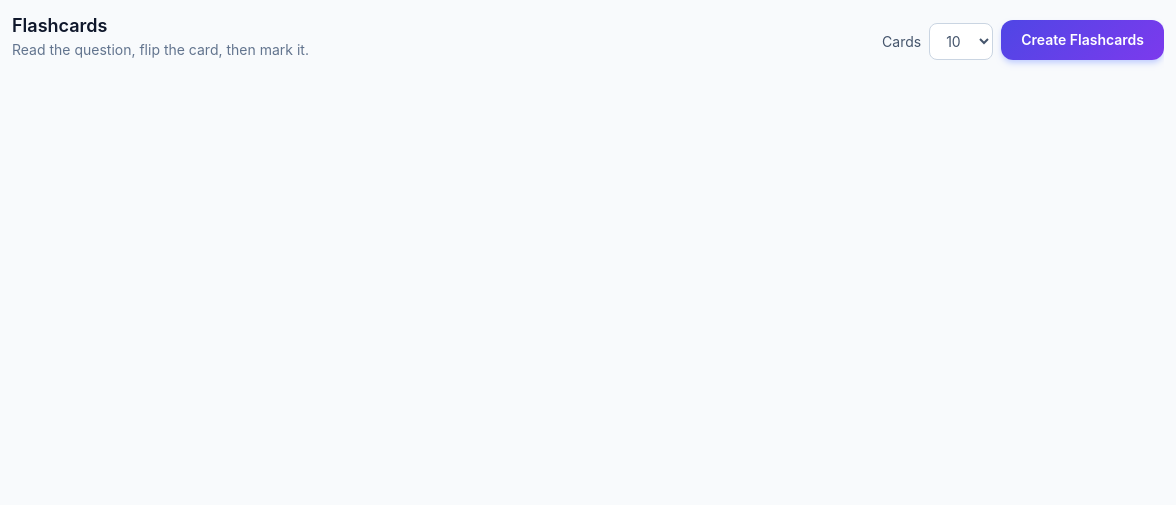
it: FlashcardPanel › shows an error when the mark cannot be saved
What coordinates should you click on to do the following:
click the button "Create Flashcards"
I would click on:
 (1083, 40)
Its box is left=1001, top=20, right=1164, bottom=60.
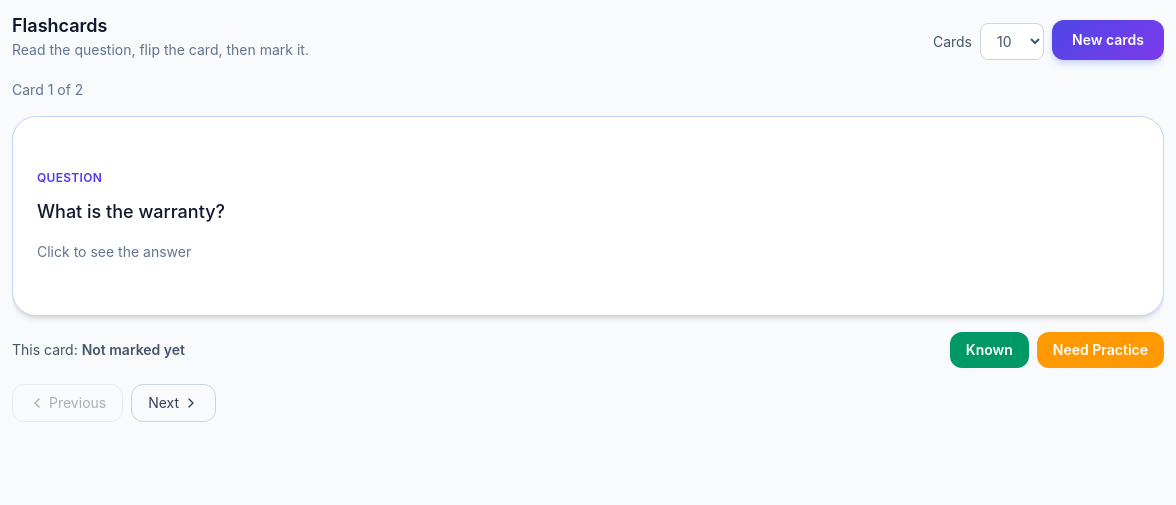
expect the text "What is the warranty?" is shown: met, box left=37, top=198, right=225, bottom=226
What coordinates should you click on to do the following:
click the button "Known"
I would click on:
 (989, 350)
Its box is left=950, top=332, right=1029, bottom=368.
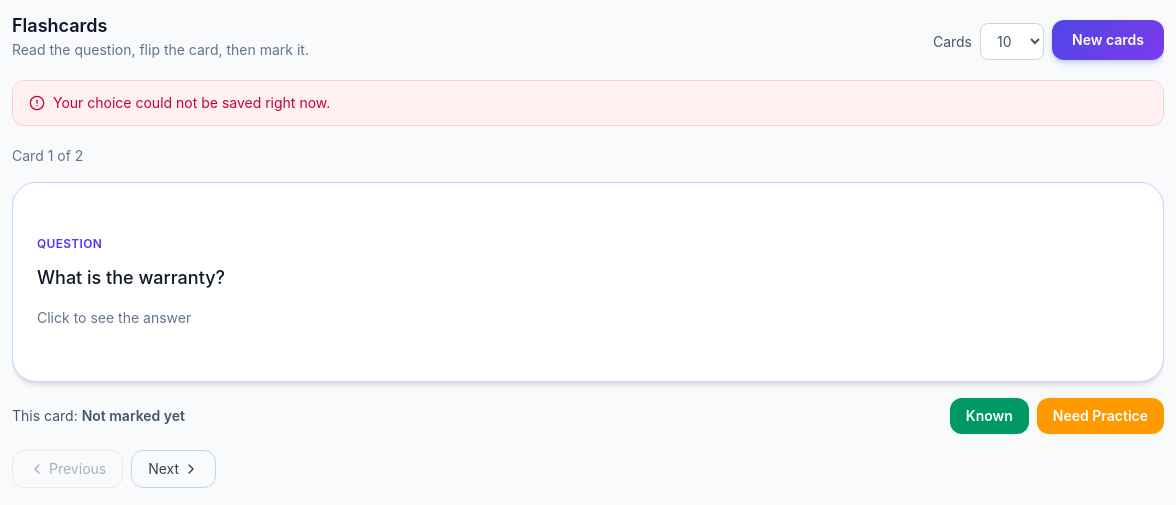
expect the message reads "Your choice could not be saved right now.": met, box left=53, top=94, right=330, bottom=111
